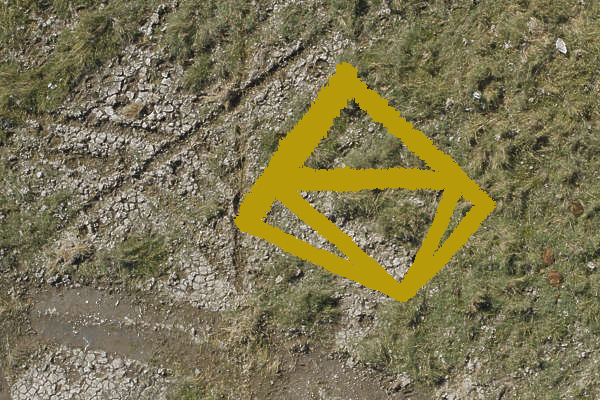marker: (230, 58, 500, 306)
